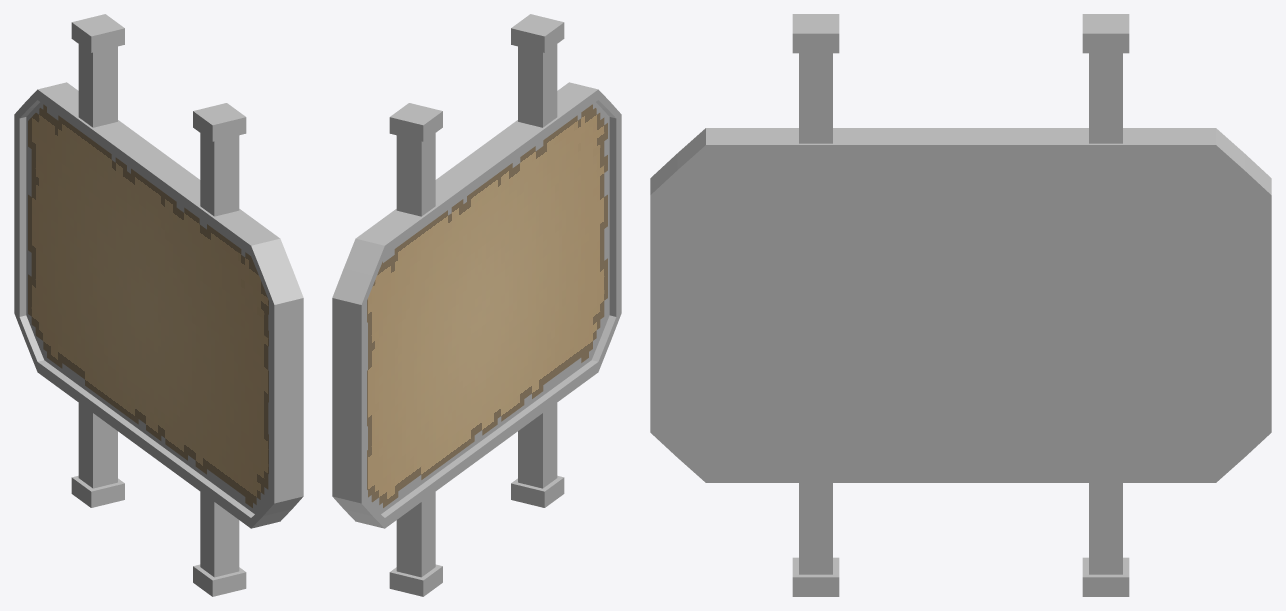
File: sign.obj
3 views of the same model, side by side, from view 1: azimuth 30°, elevation 25°; view 2: azimuth 150°, elevation 25°; view 3: azimuth 270°, elevation 25° (orthographic). The views are drawn at different scales.
Parts seen in each view (by area): view 1: front, sign, feetTop, feetBottom; view 2: front, sign, feetTop, feetBottom; view 3: sign, feetTop, feetBottom.
Boxes of the visible parts, x1,y1,x2,y2 form: front: [28, 104, 268, 507]; sign: [14, 82, 303, 528]; feetTop: [71, 14, 246, 216]; feetBottom: [71, 403, 246, 596]; front: [367, 104, 607, 507]; sign: [332, 82, 621, 528]; feetTop: [389, 14, 564, 216]; feetBottom: [389, 403, 564, 596]; sign: [650, 128, 1271, 482]; feetTop: [792, 14, 1129, 143]; feetBottom: [792, 483, 1129, 596].
Size of the model in its own units: 0.075 by 1 by 1.
